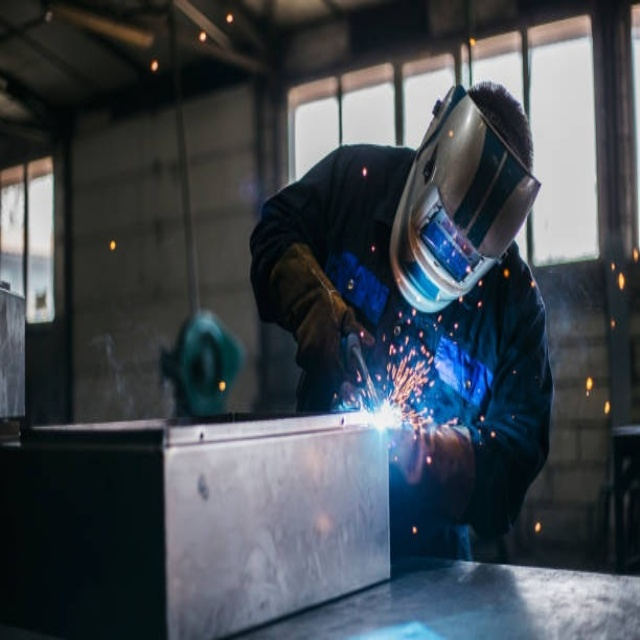Guantes: (269, 244, 371, 397), (391, 420, 477, 522)
